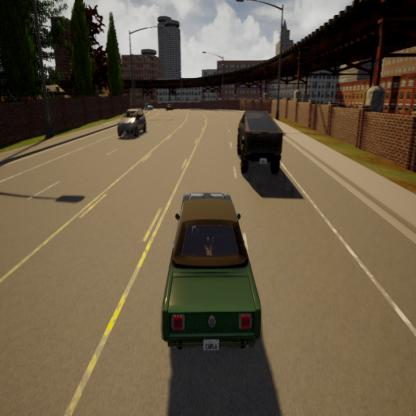Cars: (146, 182, 266, 356), (230, 104, 292, 192), (117, 99, 145, 145)
